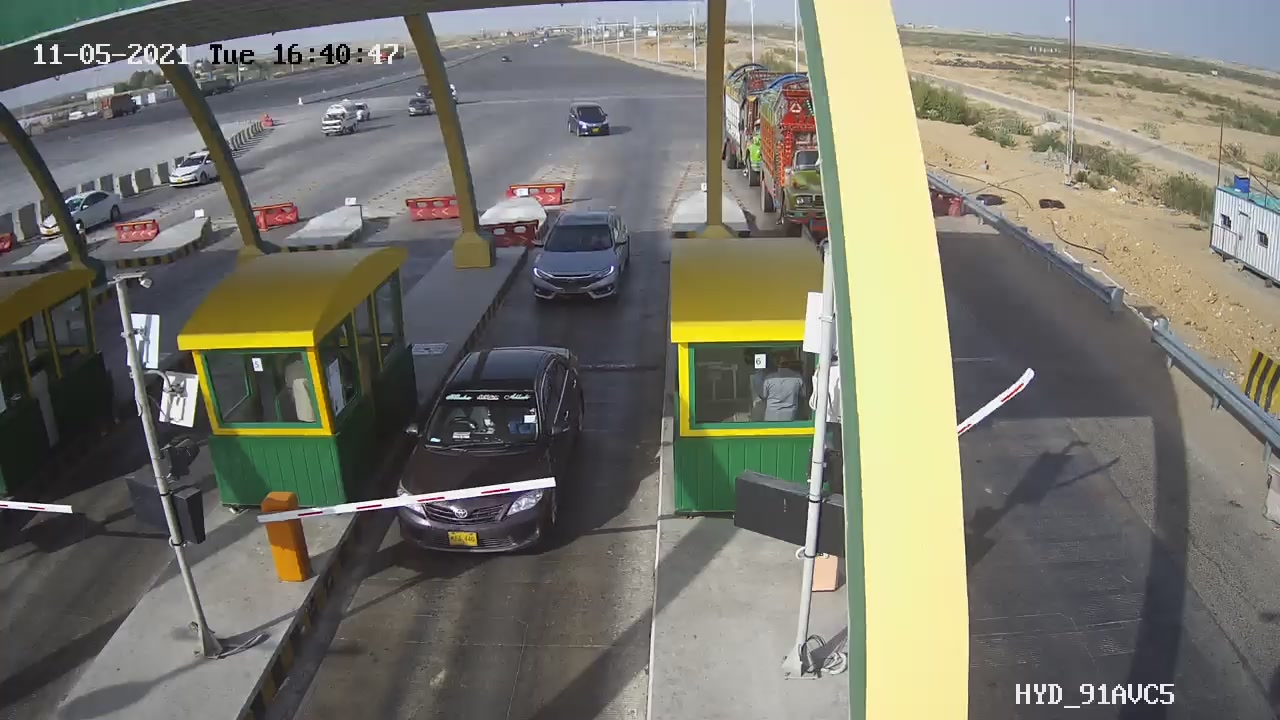F1: (376, 334, 600, 572), (520, 201, 641, 319)
